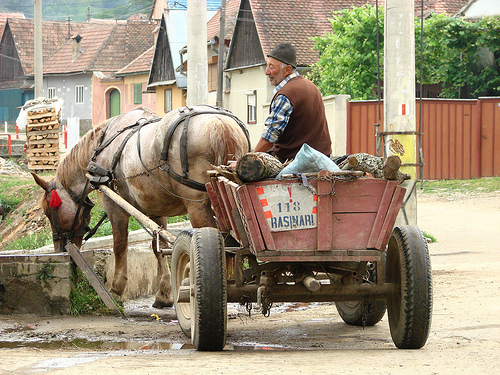horse: (26, 99, 259, 322)
